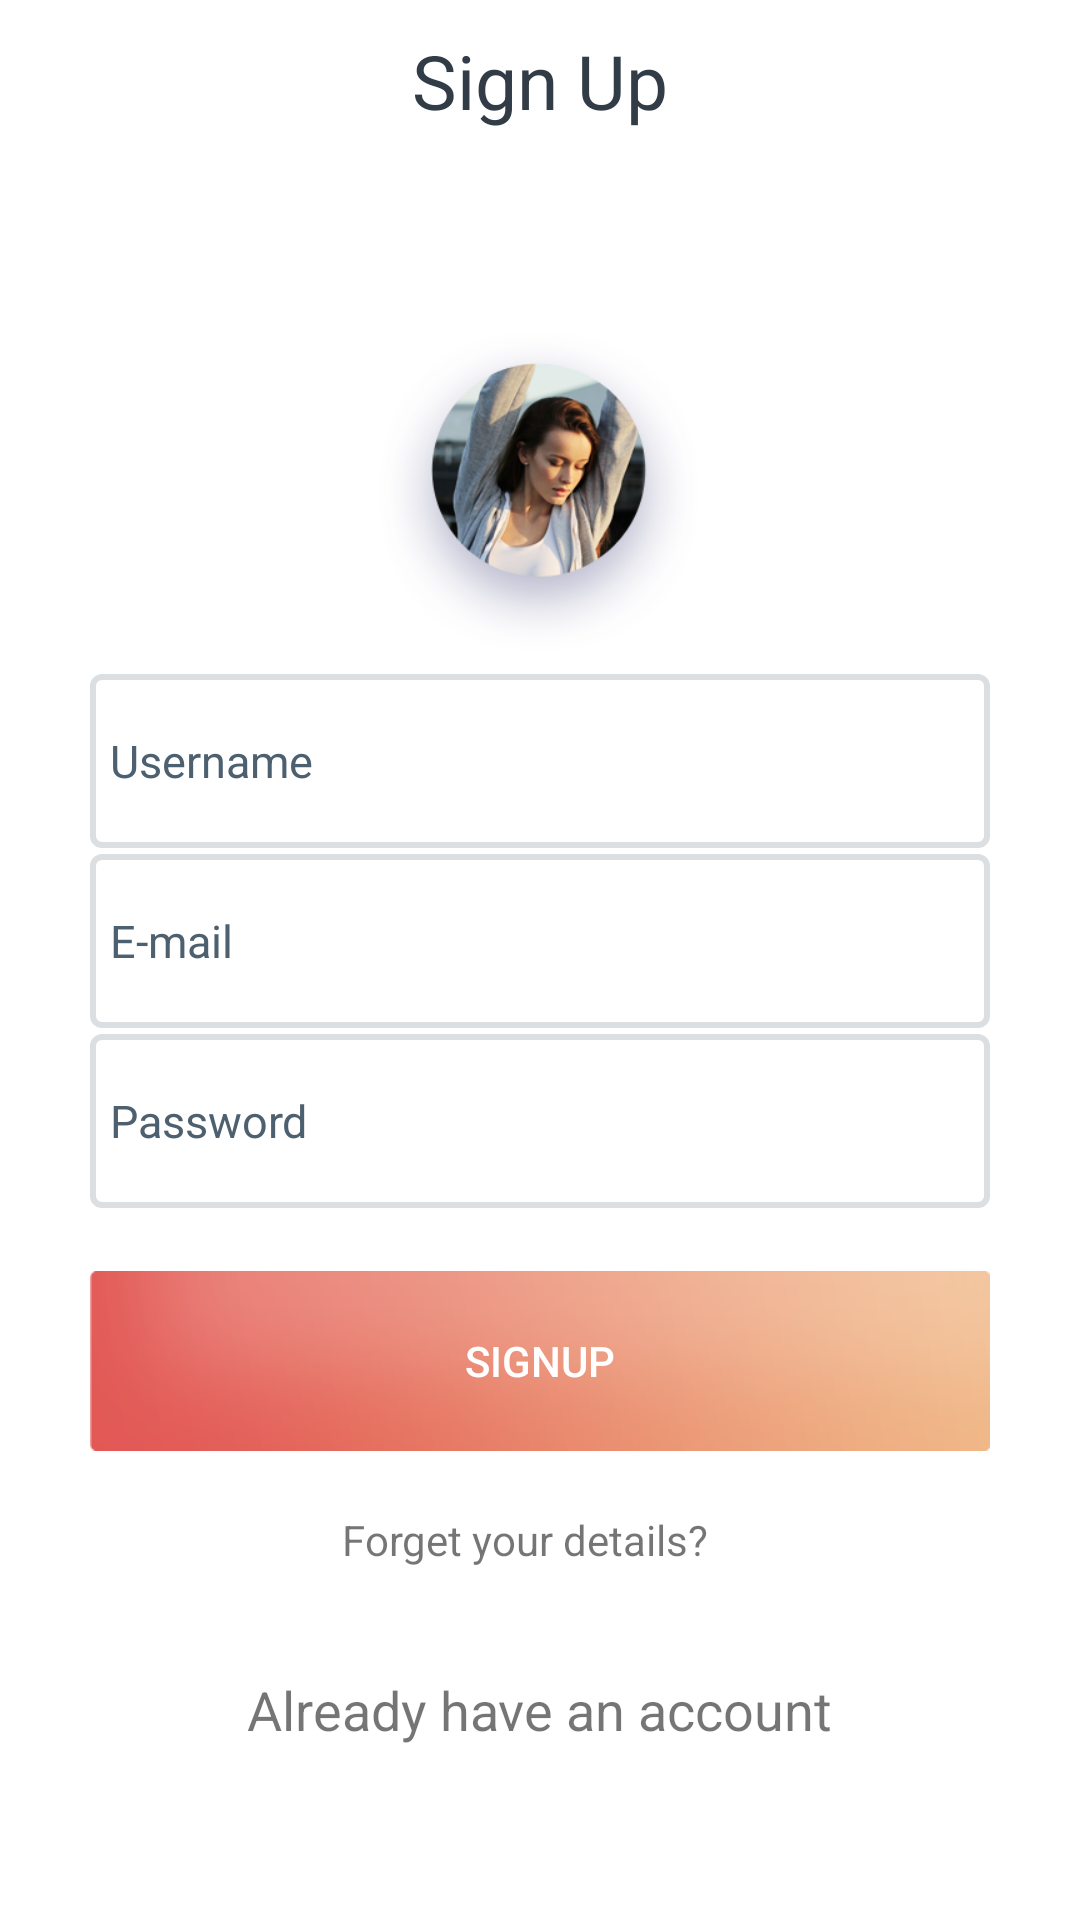

Screen size 1080×1920. Icon name, then its box in pixels as box(x1, y1, x2, y2):
profile: box(422, 363, 655, 608)
